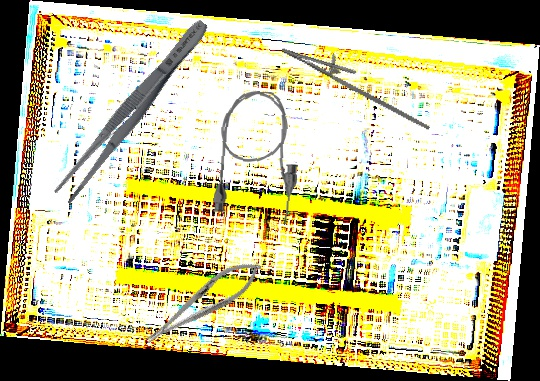Cannula: (212, 88, 303, 226)
Dressing Forceps: (50, 13, 216, 208)
Needle Holder: (273, 35, 443, 131), (137, 250, 269, 355)
